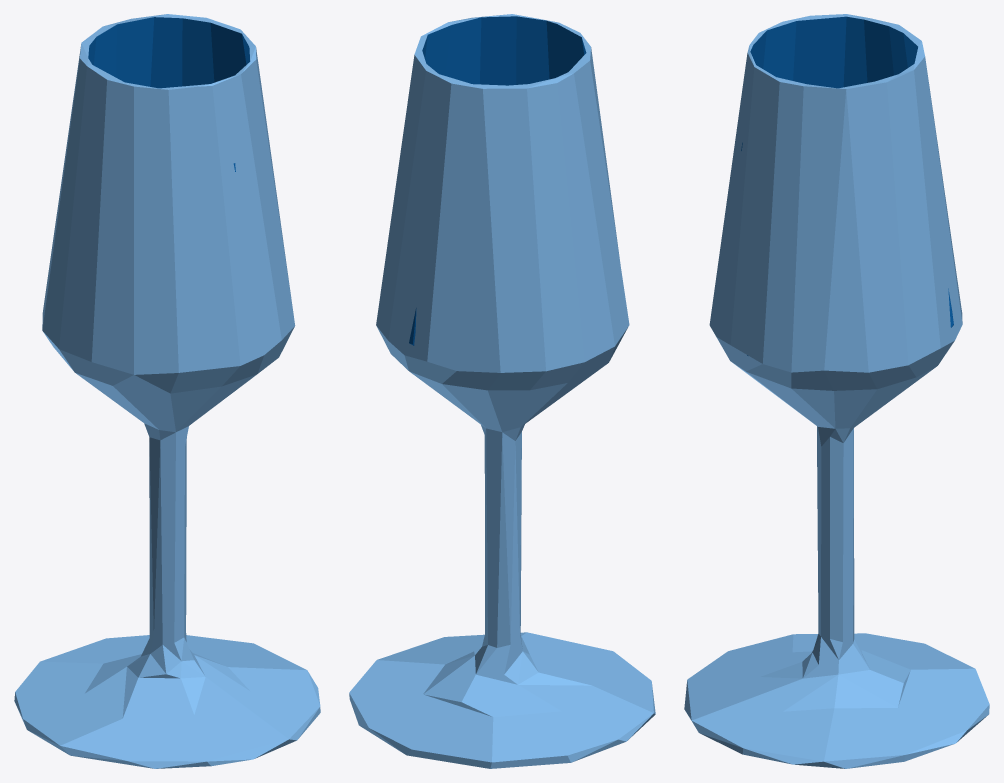
Rendered from WineGlass02.fbx.
3 renders of one model, left to right at view 1: azimuth 30°, elevation 25°; view 2: azimuth 150°, elevation 25°; view 3: azimuth 270°, elevation 25°, orthographic.
Visible parts, largest first — view 1: WineGlass02LowPoly; view 2: WineGlass02LowPoly; view 3: WineGlass02LowPoly.
Boxes of the visible parts, bbox=[...] form: WineGlass02LowPoly: bbox=[14, 14, 320, 768]; WineGlass02LowPoly: bbox=[349, 14, 655, 768]; WineGlass02LowPoly: bbox=[684, 14, 989, 768].
Size of the model in its own units: 9.35 by 22.03 by 9.33.
